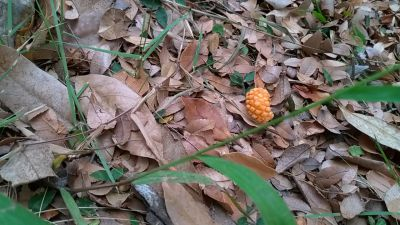eggs: (243, 85, 277, 129)
